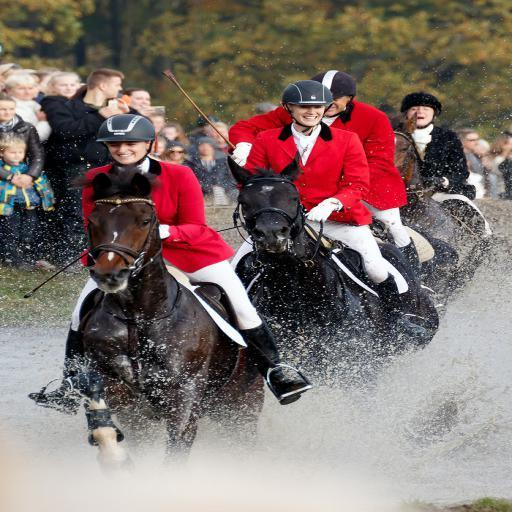horse: (63, 160, 262, 478), (234, 149, 394, 391), (383, 110, 486, 300), (372, 218, 462, 284)
